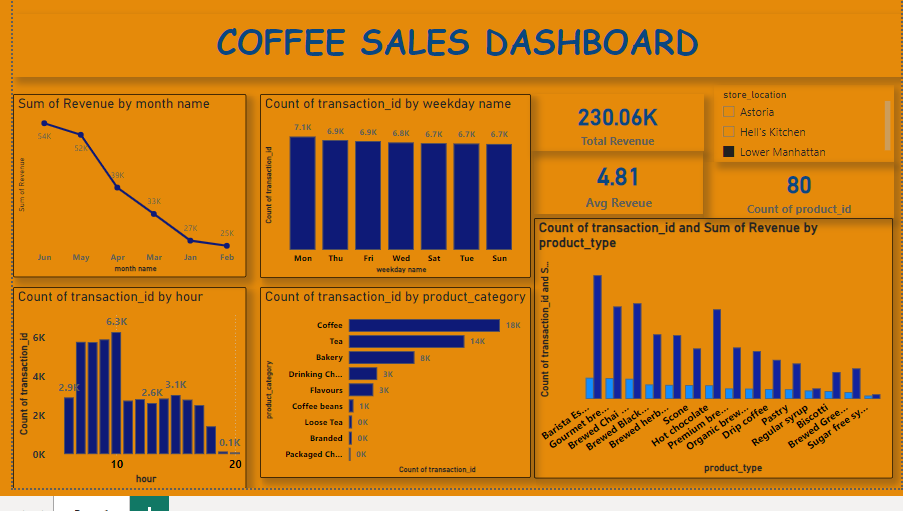

The dashboard page shown, as its layout file describes it:
{"tool":"powerbi","page":{"name":"Page 1","canvas":[1280,720],"ordinal":0},"visuals":[{"type":"lineChart","fields":{"Y":["Sum(Transactions.Revenue)"],"Category":["Transactions.month name"]},"box":[0,152.9,336,263.7],"z":0},{"type":"columnChart","fields":{"Category":["Transactions.weekday name"],"Y":["CountNonNull(Transactions.transaction_id)"]},"box":[356.1,152.9,389.7,265.4],"z":1000},{"type":"columnChart","fields":{"Y":["CountNonNull(Transactions.transaction_id)"],"Category":["Transactions.hour"]},"box":[0,430,336,290.6],"z":2000},{"type":"barChart","fields":{"Category":["Transactions.product_category"],"Y":["CountNonNull(Transactions.transaction_id)"]},"box":[356.1,430,389.7,275.5],"z":3000},{"type":"clusteredColumnChart","fields":{"Category":["Transactions.product_type"],"Y":["CountNonNull(Transactions.transaction_id)","Sum(Transactions.Revenue)"]},"box":[750.9,330.9,517.4,374.6],"z":3002},{"type":"slicer","fields":{"Values":["Transactions.store_location"]},"box":[1009.6,139.4,258.7,110.9],"z":3003},{"type":"card","fields":{"Values":["measures1.Avg Reveue"]},"box":[750.9,235.2,243.6,90.7],"z":3004},{"type":"card","fields":{"Values":["Count(Transactions.product_id)"]},"box":[994.4,250.3,273.8,80.6],"z":3005},{"type":"card","fields":{"Values":["measures1.Total Revenue"]},"box":[745.8,152.9,248.6,82.3],"z":3006},{"type":"textbox","box":[0,37,1280,90.7],"z":3007}]}

Visuals, with their boxes in screenshot pixels (x1, y1, x2, y2), scaled from the page's 1280x720 canvas onto the 903x511 screenshot:
lineChart - Sum(Transactions.Revenue) x Transactions.month name: (left=0, top=109, right=237, bottom=296)
columnChart - Transactions.weekday name x CountNonNull(Transactions.transaction_id): (left=251, top=109, right=526, bottom=297)
columnChart - CountNonNull(Transactions.transaction_id) x Transactions.hour: (left=0, top=305, right=237, bottom=510)
barChart - Transactions.product_category x CountNonNull(Transactions.transaction_id): (left=251, top=305, right=526, bottom=501)
clusteredColumnChart - Transactions.product_type x CountNonNull(Transactions.transaction_id): (left=530, top=235, right=895, bottom=501)
slicer - Transactions.store_location: (left=712, top=99, right=895, bottom=178)
card - measures1.Avg Reveue: (left=530, top=167, right=702, bottom=231)
card - Count(Transactions.product_id): (left=702, top=178, right=895, bottom=235)
card - measures1.Total Revenue: (left=526, top=109, right=702, bottom=167)
textbox: (left=0, top=26, right=902, bottom=91)
